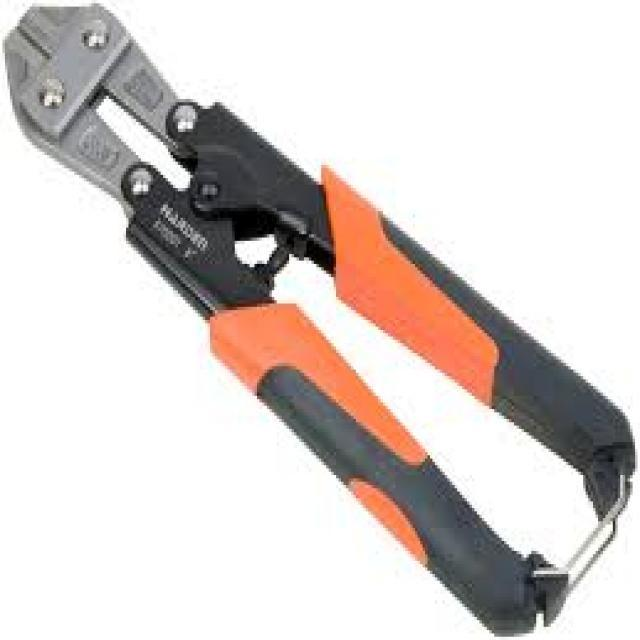pliers: (0, 0, 625, 594)
